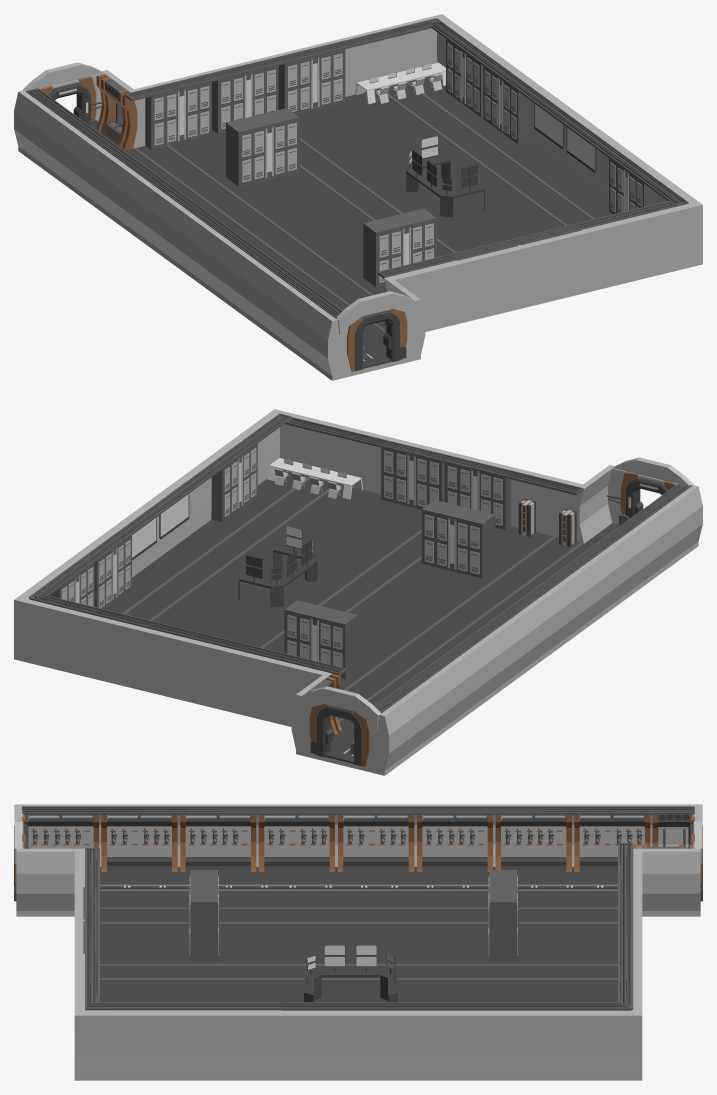
3 views of the same model, one above another, from view 1: azimuth 30°, elevation 25°; view 2: azimuth 150°, elevation 25°; view 3: azimuth 270°, elevation 25° (orthographic). The views are drawn at different scales.
Visible parts, largest first — view 1: Cube.027, Cube.150, Cube.151, Cube.157, Cube.153, Cube.148, Cube.146, Cube.155, Cube.147, Cube.136, Cube.152, Cube.144 (+8 smaller); view 2: Cube.027, Cube.150, Cube.154, Cube.151, Cube.153, Cube.156, Cube.138, Cube.139, Cube.152, Cube.136, Cube.143, Cube.144 (+8 smaller); view 3: Cube.027, Cube.150, Cube.151, Cube.153, ArmeLambdaAlpha.009, ArmeLambdaAlpha.011, ArmeLambdaAlpha.007, ArmeLambdaAlpha.008, ArmeLambdaAlpha.012, ArmeLambdaAlpha.010, ArmeLambdaAlpha.013, Cube.136 (+7 smaller).
Boxes of the visible parts, x1,y1,x2,y2 form: Cube.027: [14, 14, 702, 380]; Cube.150: [124, 18, 688, 206]; Cube.151: [26, 88, 342, 318]; Cube.157: [232, 113, 299, 186]; Cube.153: [133, 81, 594, 332]; Cube.148: [145, 82, 211, 149]; Cube.146: [278, 49, 345, 114]; Cube.155: [369, 213, 436, 287]; Cube.147: [212, 65, 278, 133]; Cube.136: [406, 135, 484, 217]; Cube.152: [377, 201, 675, 278]; Cube.144: [483, 66, 529, 144]; Cube.027: [14, 409, 702, 775]; Cube.150: [29, 413, 346, 675]; Cube.154: [421, 504, 488, 578]; Cube.151: [374, 483, 691, 713]; Cube.153: [122, 476, 584, 722]; Cube.156: [284, 605, 351, 678]; Cube.138: [381, 441, 446, 509]; Cube.139: [444, 457, 510, 529]; Cube.152: [285, 417, 583, 495]; Cube.136: [238, 525, 317, 607]; Cube.143: [211, 443, 257, 522]; Cube.144: [94, 535, 131, 608]; Cube.027: [14, 804, 702, 1080]; Cube.150: [85, 843, 633, 1010]; Cube.151: [22, 806, 694, 814]; Cube.153: [100, 907, 617, 980]; ArmeLambdaAlpha.009: [258, 815, 334, 871]; ArmeLambdaAlpha.011: [338, 815, 414, 871]; ArmeLambdaAlpha.007: [101, 815, 177, 871]; ArmeLambdaAlpha.008: [180, 815, 256, 871]; ArmeLambdaAlpha.012: [495, 815, 571, 871]; ArmeLambdaAlpha.010: [417, 815, 492, 871]; ArmeLambdaAlpha.013: [574, 815, 650, 871]; Cube.136: [304, 945, 397, 1002].
Size of the model in its own units: 10987 by 1913 by 14975.
